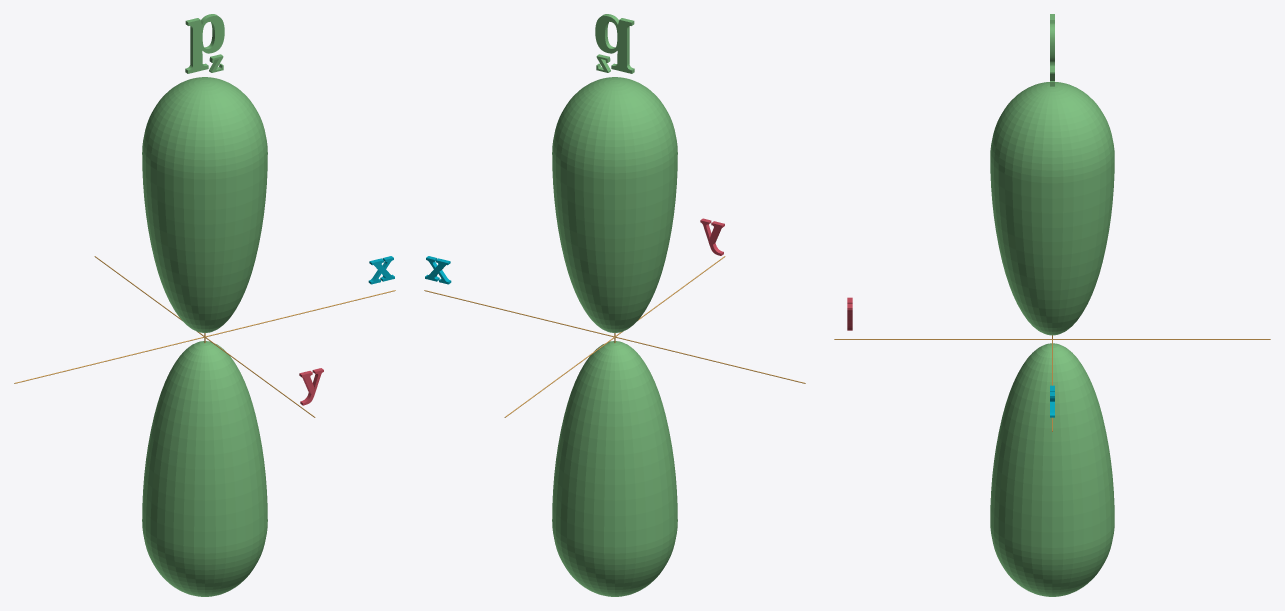
The picture shows the model from 3 angles, left to right: view 1: azimuth 30°, elevation 25°; view 2: azimuth 150°, elevation 25°; view 3: azimuth 270°, elevation 25°; orthographic projection.
Visible parts, largest first — view 1: Mesh_Mesh_head_geo.001_lambert2SG.001; view 2: Mesh_Mesh_head_geo.001_lambert2SG.001; view 3: Mesh_Mesh_head_geo.001_lambert2SG.001.
Boxes of the visible parts, box(x1,y1,x2,y2) form: Mesh_Mesh_head_geo.001_lambert2SG.001: box(14, 14, 395, 596); Mesh_Mesh_head_geo.001_lambert2SG.001: box(424, 14, 805, 596); Mesh_Mesh_head_geo.001_lambert2SG.001: box(834, 14, 1270, 596).
Bounding box in the file's own units: 84 × 121 × 84.
